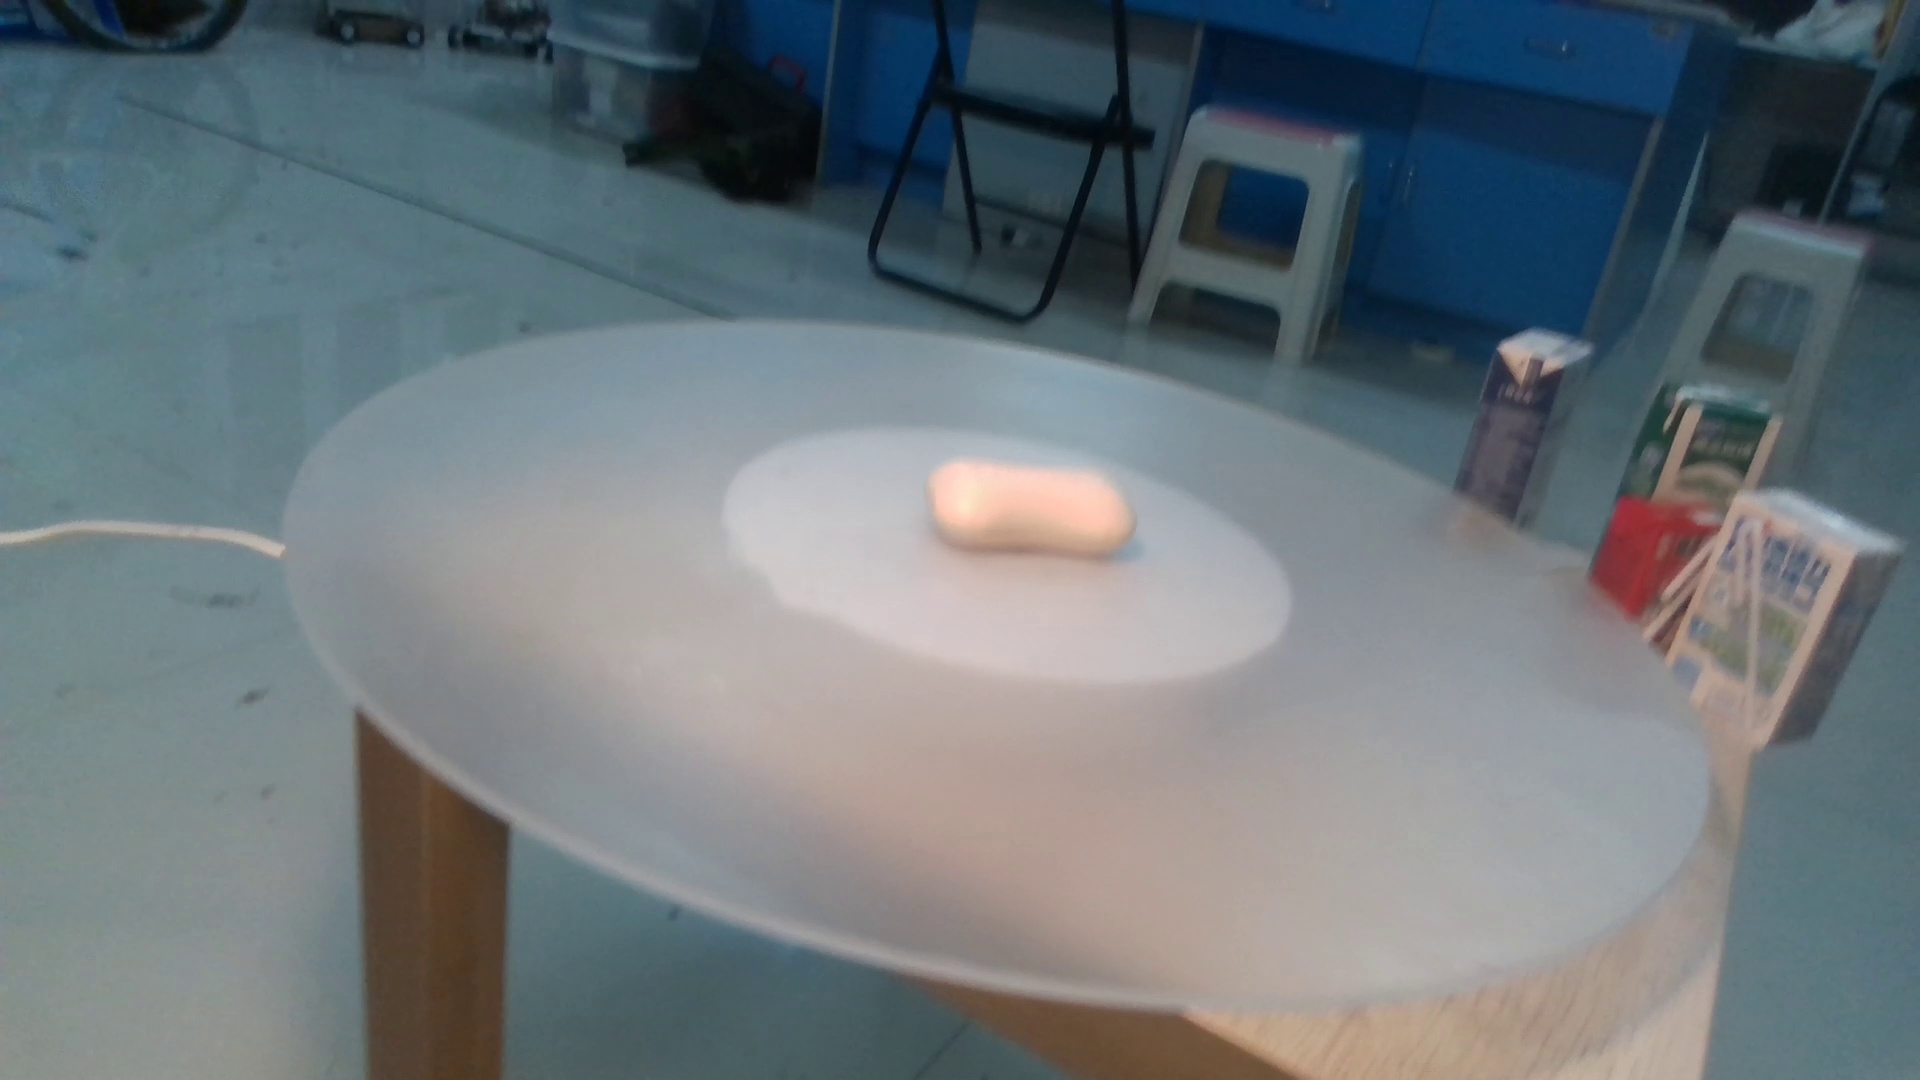CA003_1: (907, 434, 1151, 589)
